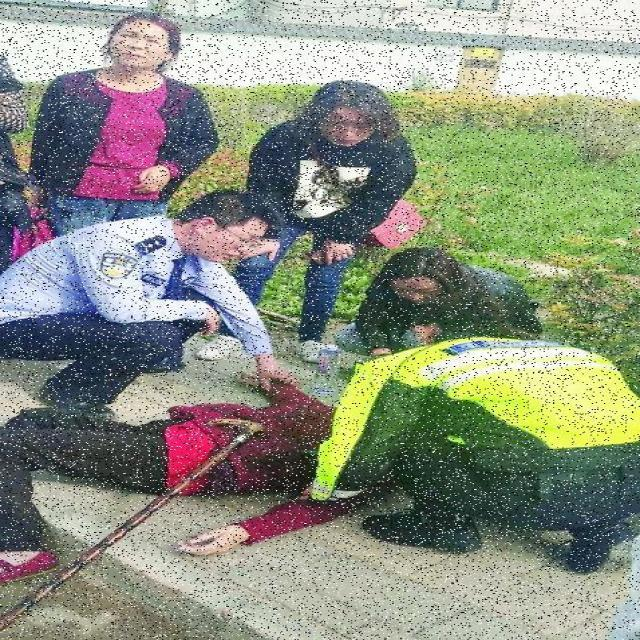fall: (1, 388, 366, 586)
